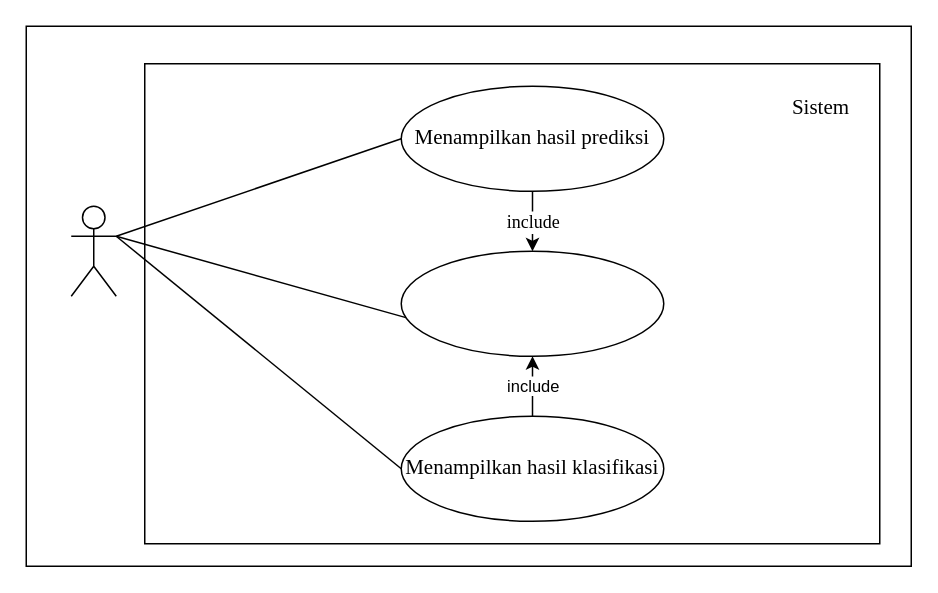
Image size: 938x593. Some labels were removed from this diagram. Each missing label, with the centre of its shape:
"Melakukan load data" goes at [532,303].
"User" goes at [93,250].
